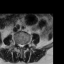CCS_stenosis: (20, 42, 22, 50)
LFS_normal: (24, 42, 26, 47)
LLS_normal: (22, 42, 24, 49)
RFS_normal: (16, 41, 18, 47)
RLS_normal: (18, 42, 20, 49)
